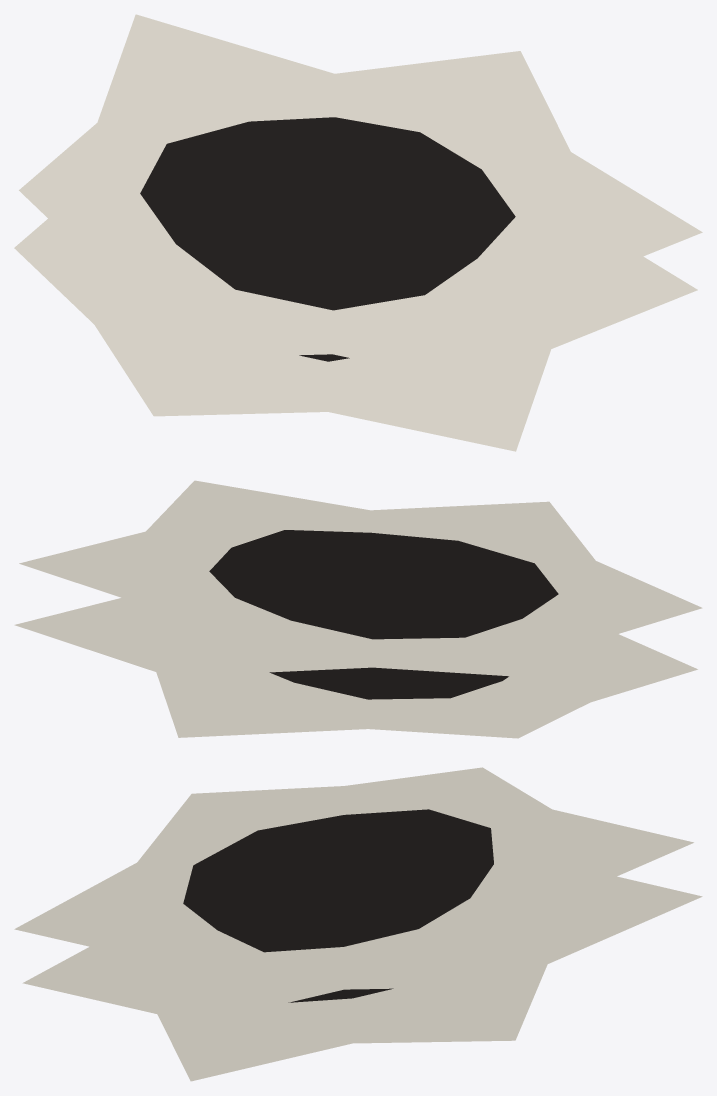
The model's file is hole_stand_09.obj.
The picture shows the model from 3 angles, top to bottom: view 1: azimuth 30°, elevation 25°; view 2: azimuth 150°, elevation 25°; view 3: azimuth 270°, elevation 25°; orthographic projection. The views are drawn at different scales.
Bounding box in the file's own units: 0.0496 × 0.0139 × 0.0619.
